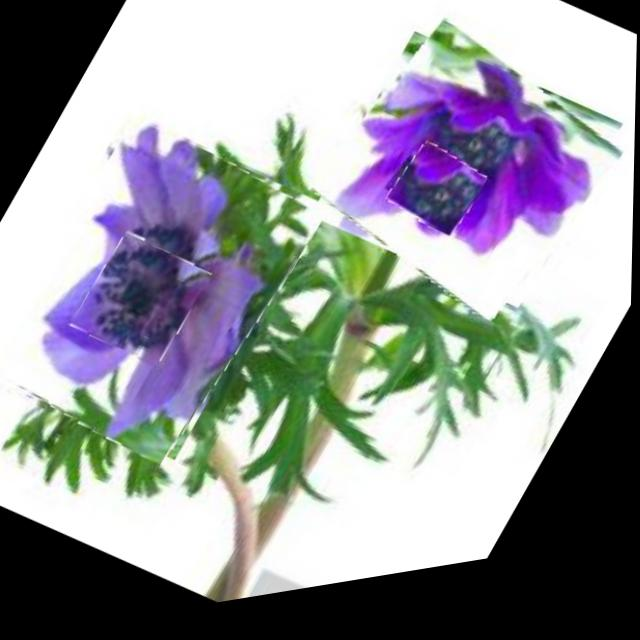Flower: (0, 86, 333, 499), (295, 2, 639, 370), (70, 223, 217, 386), (383, 145, 493, 262)
